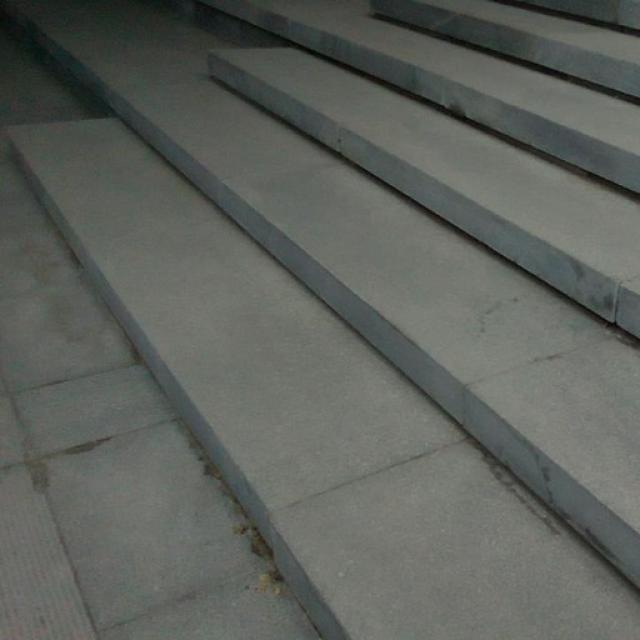stair: (151, 0, 640, 578)
